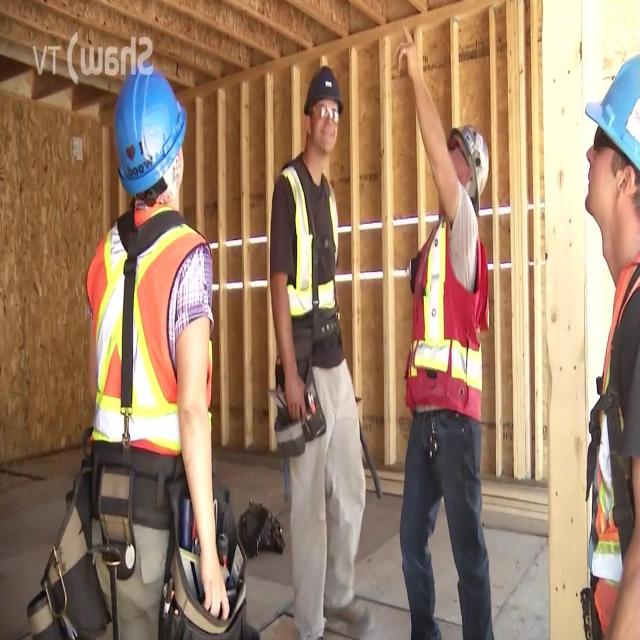Reflective-Jacket: (74, 212, 226, 481), (580, 231, 640, 636), (261, 154, 357, 380), (396, 208, 494, 426)
Safety-Helmet: (109, 59, 190, 204), (581, 41, 640, 211), (442, 111, 494, 211), (298, 58, 350, 122)
